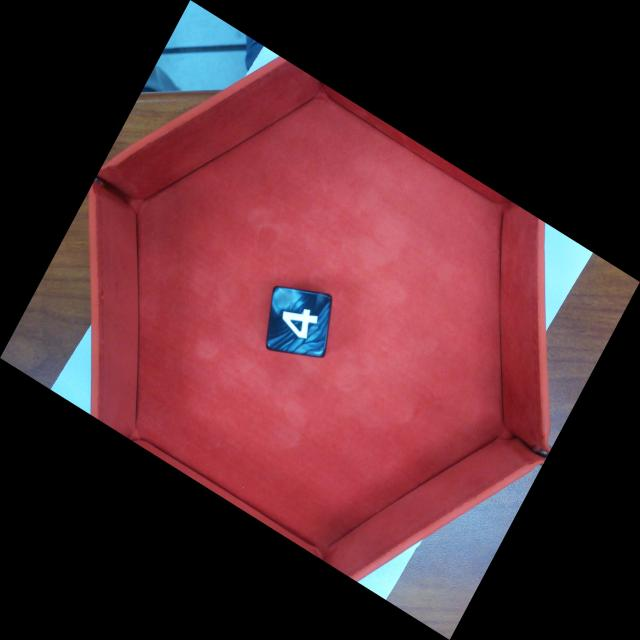dice: (266, 286, 332, 357)
